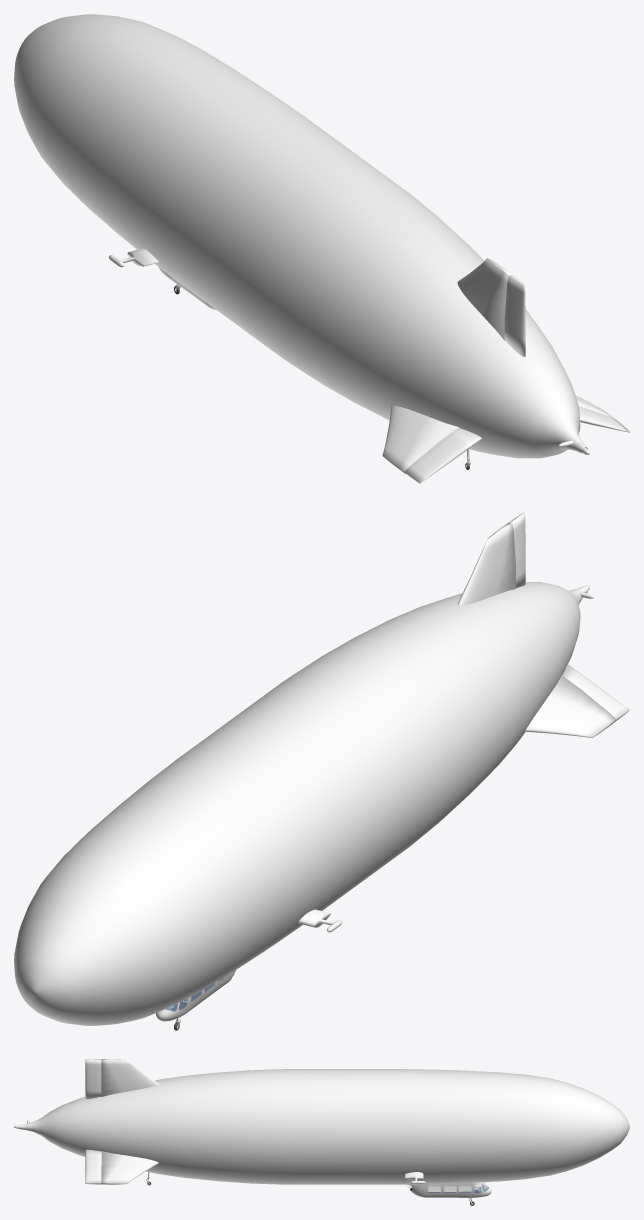
The model's file is hindenburg_airframe.glb.
3 views of the same model, one above another, from view 1: azimuth 30°, elevation 25°; view 2: azimuth 150°, elevation 25°; view 3: azimuth 270°, elevation 25° (orthographic). The views are drawn at different scales.
Parts seen in each view (by area): view 1: body; view 2: body; view 3: body.
Boxes of the visible parts, left/top/right/bottom form: body: left=14, top=14, right=629, bottom=483; body: left=14, top=512, right=629, bottom=1030; body: left=14, top=1059, right=629, bottom=1205.
Bounding box in the file's own units: 17.46 × 19.71 × 75.03.
Materials: 16 (3 with a texture image).
